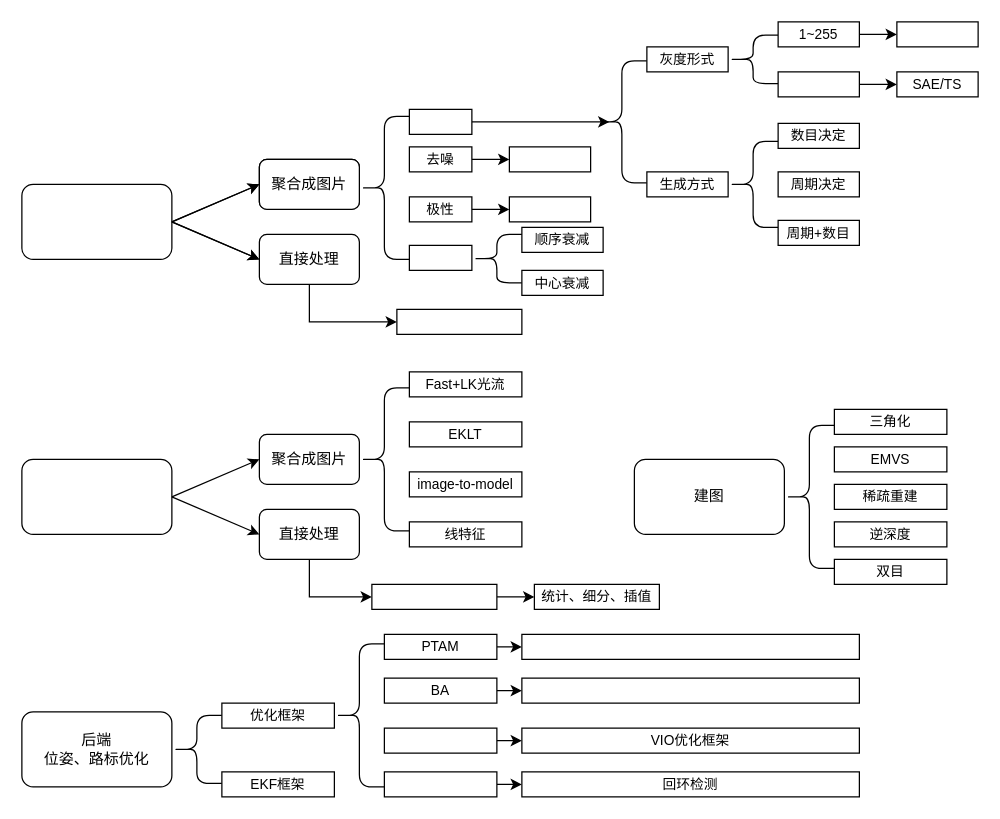
This 1000x819 diagram has some shape labels left out. Here are the shapes that lost their labels. From the top down, the box of each, then its label:
(896, 21, 978, 47): 贡献度
(777, 71, 859, 97): 时间戳
(408, 108, 472, 134): 切片
(508, 146, 591, 172): 静止假设
(21, 183, 172, 259): 事件数据处理
(508, 196, 591, 222): ±1/w/o
(408, 244, 472, 270): 加权
(396, 308, 522, 334): 无额外处理
(21, 458, 172, 534): 前端 特征匹配
(371, 583, 497, 609): 根据状态估计投影
(521, 633, 859, 659): 无后端，跟踪与建图交错进行
(521, 677, 859, 703): 光度误差
(383, 727, 497, 753): 优化
(383, 771, 497, 797): 位姿图优化
